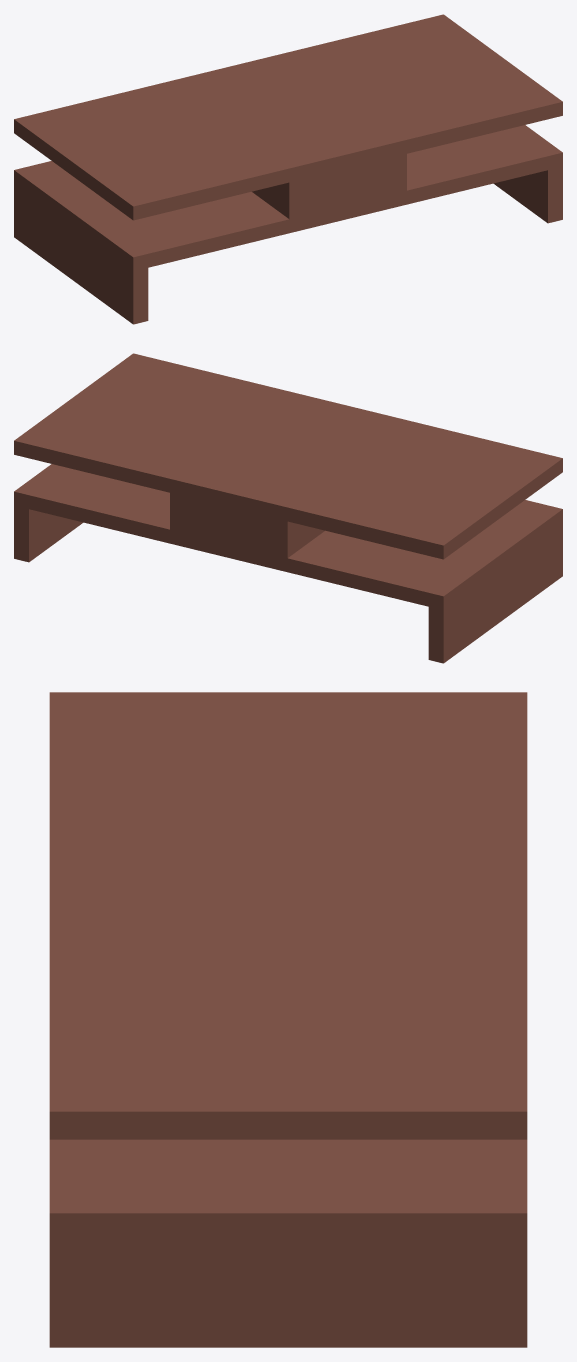
The model's file is coffee_table_023.glb.
3 renders of one model, top to bottom at view 1: azimuth 30°, elevation 25°; view 2: azimuth 150°, elevation 25°; view 3: azimuth 270°, elevation 25°, orthographic. The views are drawn at different scales.
Visible parts, largest first — view 1: coffee_table_023; view 2: coffee_table_023; view 3: coffee_table_023.
Boxes of the visible parts, <box> form: coffee_table_023: <box>14,14,562,324</box>; coffee_table_023: <box>14,353,562,663</box>; coffee_table_023: <box>49,692,527,1347</box>.
Size of the model in its own units: 1.11 by 0.2902 by 0.5319.
Materials: 1 (1 with a texture image).
